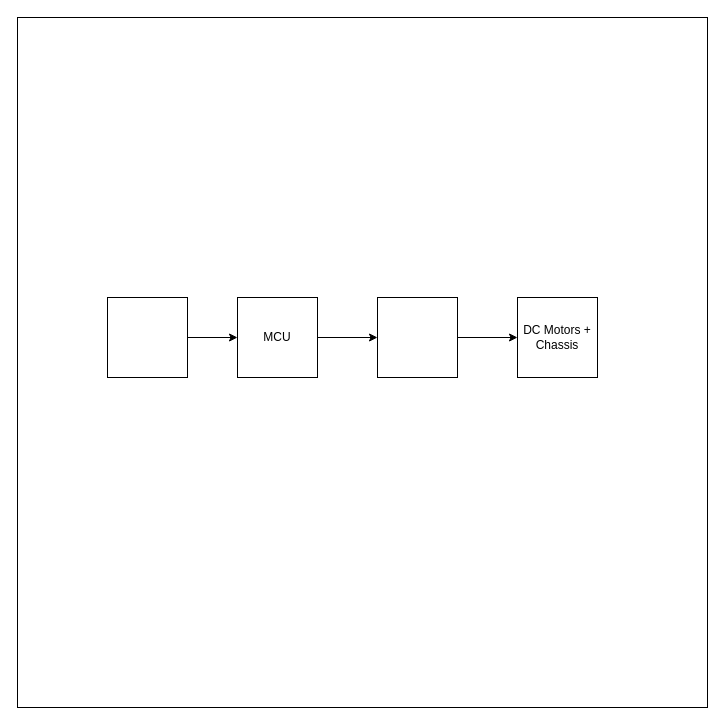
The diagram is 725 pixels wide and 725 high, and some of its shapes have lost their labels. The centre of each missing label's shape, as x and y in pixels:
Arduino Uno R3: the point at 417,337
Thermal Sensor: the point at 147,337
